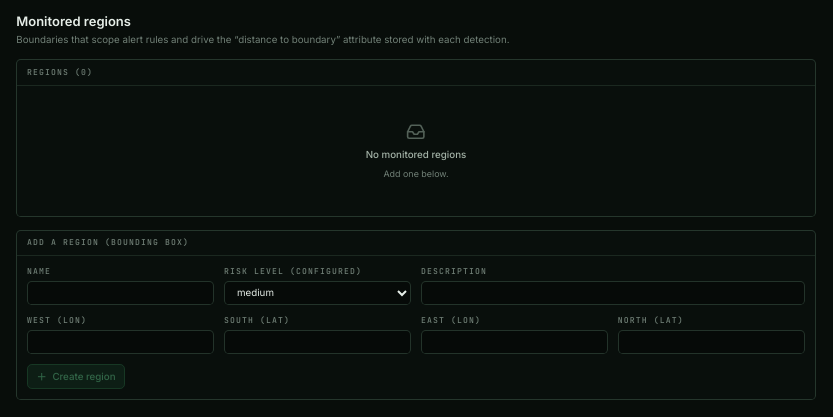
Test: RegionsPage › only administrators can add regions, and invalid bounds are rejected client-side
Type "Park" into the field labelled "Name" at (121, 293), box 27,280 -> 214,305
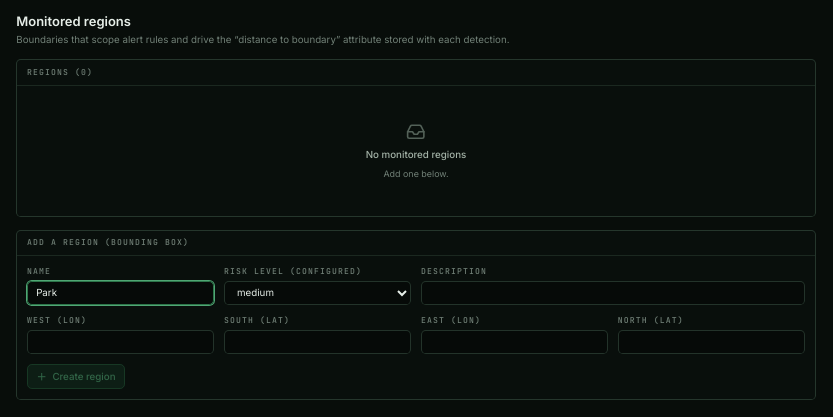
Type "10" into the field labelled "west (lon)" at (121, 342), box 27,330 -> 214,354
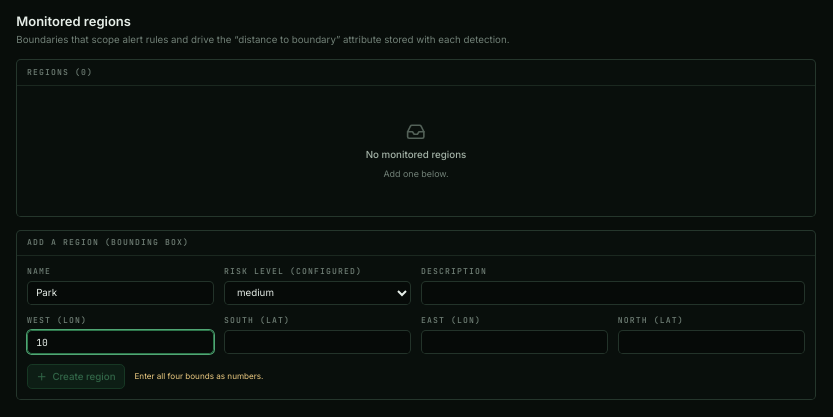
Type "5" into the field labelled "south (lat)" at (318, 342), box 224,330 -> 411,354
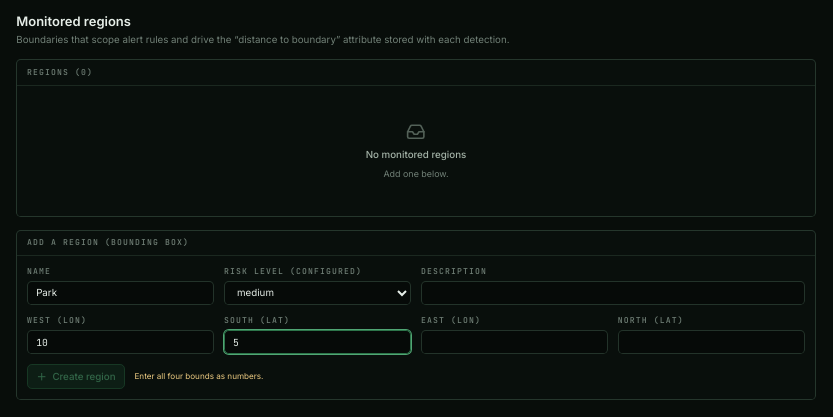
Type "9" into the field labelled "east (lon)" at (514, 342), box 421,330 -> 608,354
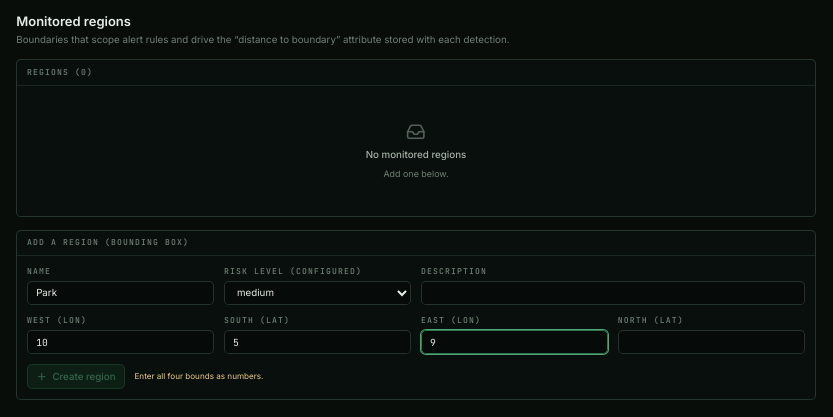
Type "6" into the field labelled "north (lat)" at (711, 342), box 618,330 -> 805,354
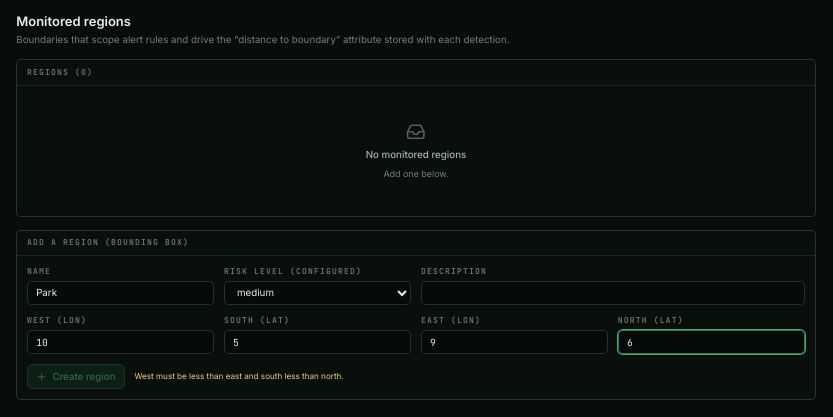
Expected: the button "Create region" is disabled, 27,364 -> 125,389
Result: the text "West must be less than east and south less than north." is shown at 134,371 -> 344,382
Replace the text in the field labelled "east (lon)" with "11" at (514, 342), box 421,330 -> 608,354
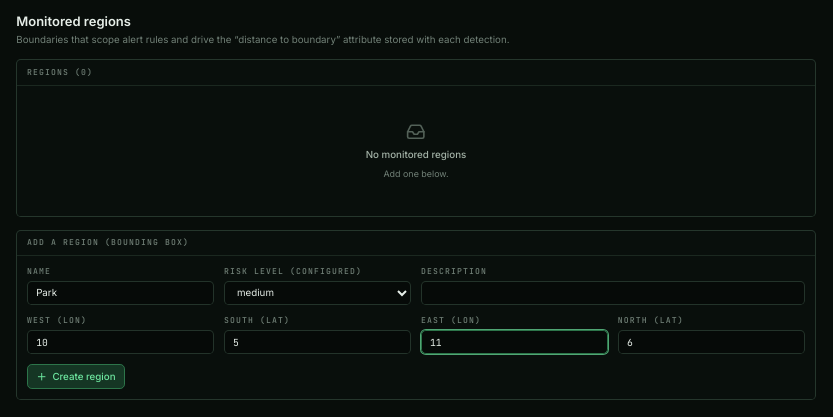
Result: the button "Create region" is enabled at 27,364 -> 125,389
